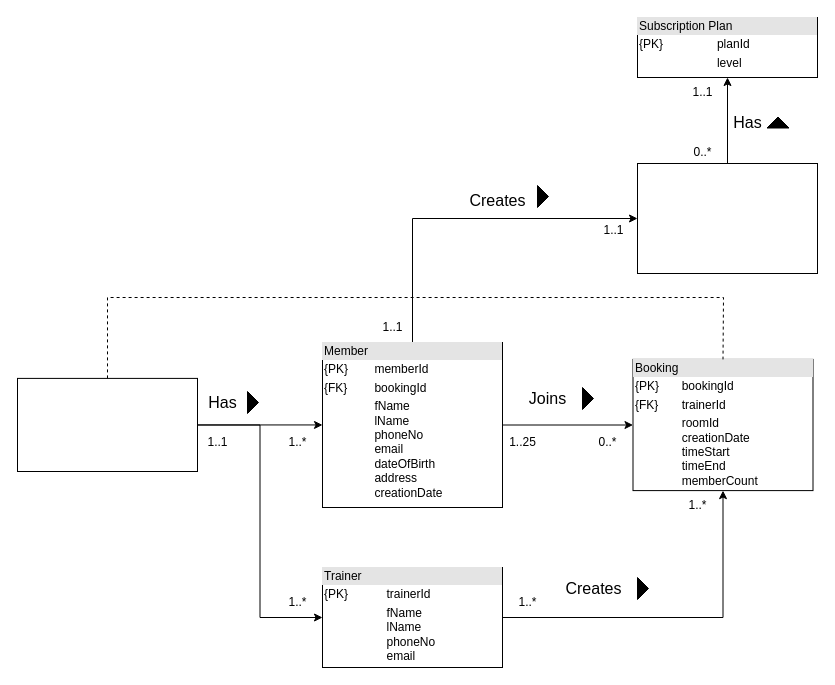
Image size: 835x685. Some labels were removed from this diagram. The box of each missing label's shape, as (x1, y1, x2, y2) in pixels:
Center {PK} noId {FK1} memberId {FK2} trainerId branchLocation: (16, 377, 198, 472)
Subscription {PK} memberId {FK} planId level creationDate expireDate: (636, 162, 818, 274)
